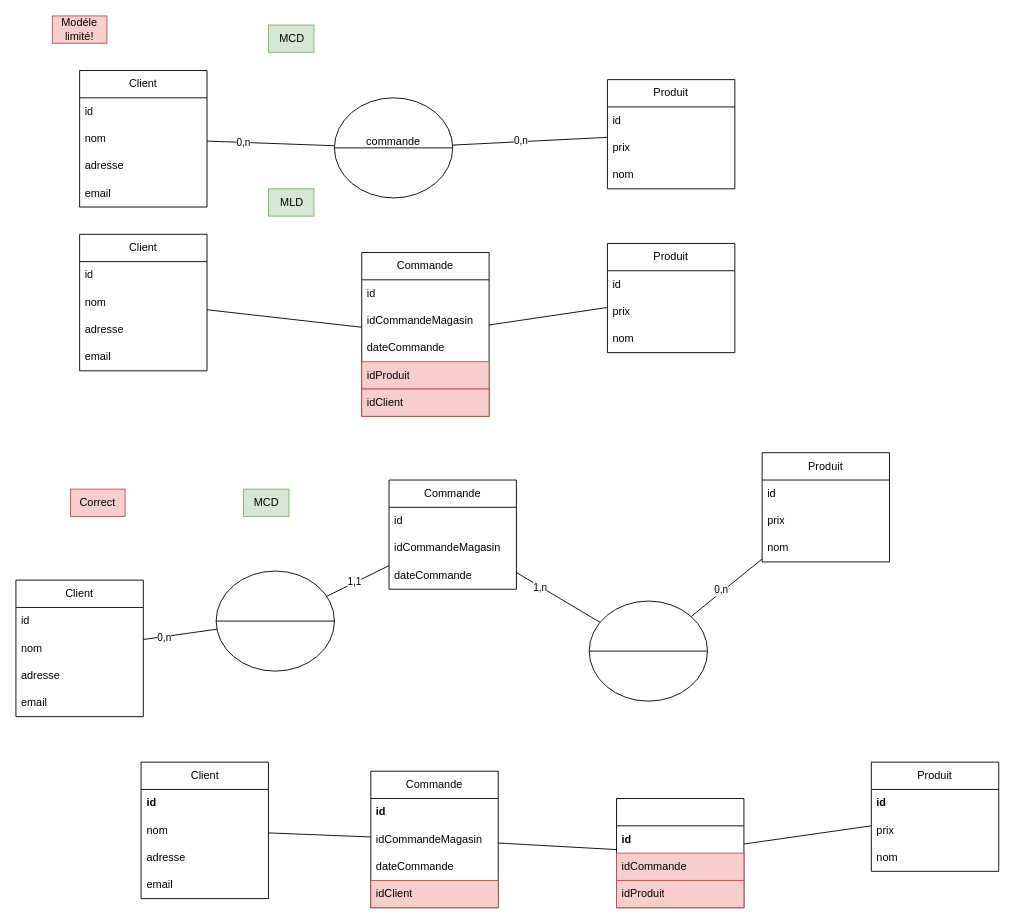
Some shapes in this 1015 by 924 pixel diagram are drawn without their labels. Each missing label, with the box of its shape:
contient: (588, 600, 708, 701)
DetailCommande: (616, 798, 744, 908)
fait: (215, 570, 334, 671)
